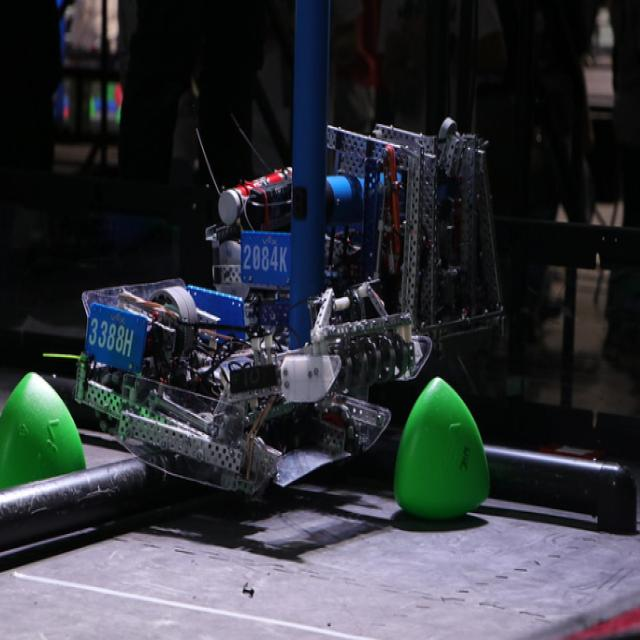License-Plates: (85, 301, 145, 373), (239, 230, 292, 284)
